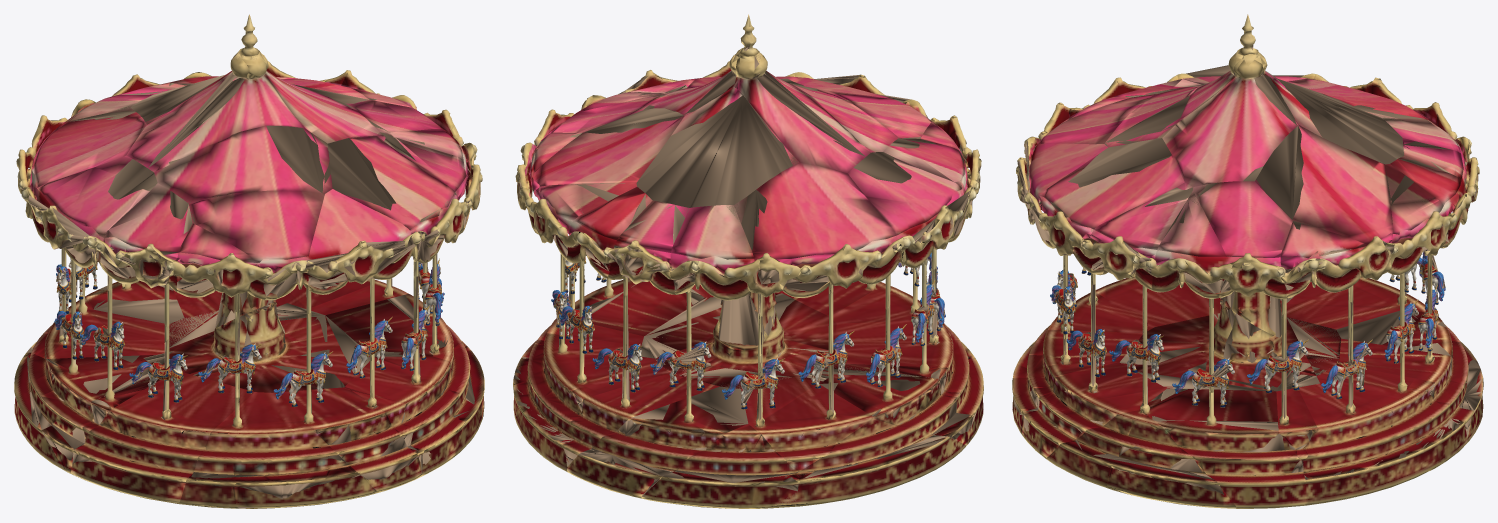
File: Carousel_Fractured.fbx
The picture shows the model from 3 angles, left to right: view 1: azimuth 30°, elevation 25°; view 2: azimuth 150°, elevation 25°; view 3: azimuth 270°, elevation 25°; orthographic projection.
Parts seen in each view (by area): view 1: Carousel_Frag_16, Carousel_Frag_39, Carousel_Frag_36, Carousel_Frag_31, Carousel_Frag_17, Carousel_Frag_14, Carousel_Frag_09, Carousel_Frag_26, Carousel_Frag_42, Carousel_Frag_30, Carousel_Frag_35, Carousel_Frag_08 (+26 smaller); view 2: Carousel_Frag_28, Carousel_Frag_04, Carousel_Frag_12, Carousel_Frag_01, Carousel_Frag_40, Carousel_Frag_19, Carousel_Frag_24, Carousel_Frag_42, Carousel_Frag_36, Carousel_Frag_08, Carousel_Frag_17, Carousel_Frag_32 (+26 smaller); view 3: Carousel_Frag_24, Carousel_Frag_23, Carousel_Frag_32, Carousel_Frag_25, Carousel_Frag_29, Carousel_Frag_09, Carousel_Frag_30, Carousel_Frag_36, Carousel_Frag_38, Carousel_Frag_13, Carousel_Frag_06, Carousel_Frag_37 (+26 smaller).
Boxes of the visible parts, box(x1,y1,x2,y2) form: Carousel_Frag_16: box(70, 338, 254, 504); Carousel_Frag_39: box(179, 392, 378, 508); Carousel_Frag_36: box(141, 302, 369, 392); Carousel_Frag_31: box(154, 125, 332, 203); Carousel_Frag_17: box(126, 14, 304, 172); Carousel_Frag_14: box(273, 312, 421, 492); Carousel_Frag_09: box(327, 135, 467, 276); Carousel_Frag_26: box(188, 190, 324, 314); Carousel_Frag_42: box(21, 156, 157, 290); Carousel_Frag_30: box(344, 276, 465, 476); Carousel_Frag_35: box(306, 189, 421, 294); Carousel_Frag_08: box(41, 276, 169, 473); Carousel_Frag_28: box(734, 162, 904, 316); Carousel_Frag_04: box(636, 87, 799, 207); Carousel_Frag_12: box(567, 384, 748, 498); Carousel_Frag_01: box(741, 351, 872, 473); Carousel_Frag_40: box(796, 418, 966, 506); Carousel_Frag_19: box(641, 424, 799, 508); Carousel_Frag_24: box(513, 301, 646, 471); Carousel_Frag_42: box(848, 152, 976, 267); Carousel_Frag_36: box(640, 293, 836, 381); Carousel_Frag_08: box(809, 305, 972, 445); Carousel_Frag_17: box(734, 14, 870, 173); Carousel_Frag_32: box(519, 108, 684, 199); Carousel_Frag_24: box(1299, 360, 1467, 505); Carousel_Frag_23: box(1139, 388, 1305, 508); Carousel_Frag_32: box(1255, 125, 1394, 260); Carousel_Frag_25: box(1162, 54, 1298, 187); Carousel_Frag_29: box(1046, 409, 1237, 508); Carousel_Frag_09: box(1029, 138, 1184, 284); Carousel_Frag_30: box(1023, 284, 1166, 459); Carousel_Frag_36: box(1119, 297, 1319, 391); Carousel_Frag_38: box(1193, 181, 1292, 314); Carousel_Frag_13: box(1277, 221, 1390, 302); Carousel_Frag_06: box(1080, 182, 1193, 290); Carousel_Frag_37: box(1150, 191, 1232, 298).
Bounding box in the file's own units: 2958 × 2749 × 2959.
